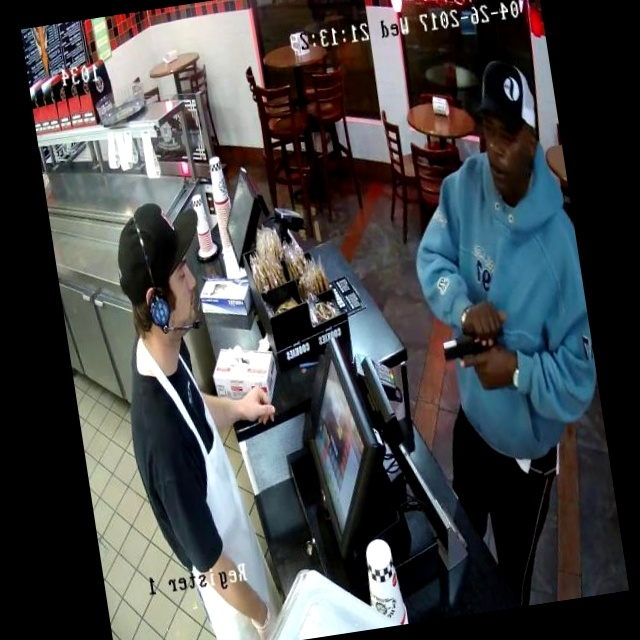gun: (429, 301, 525, 382)
